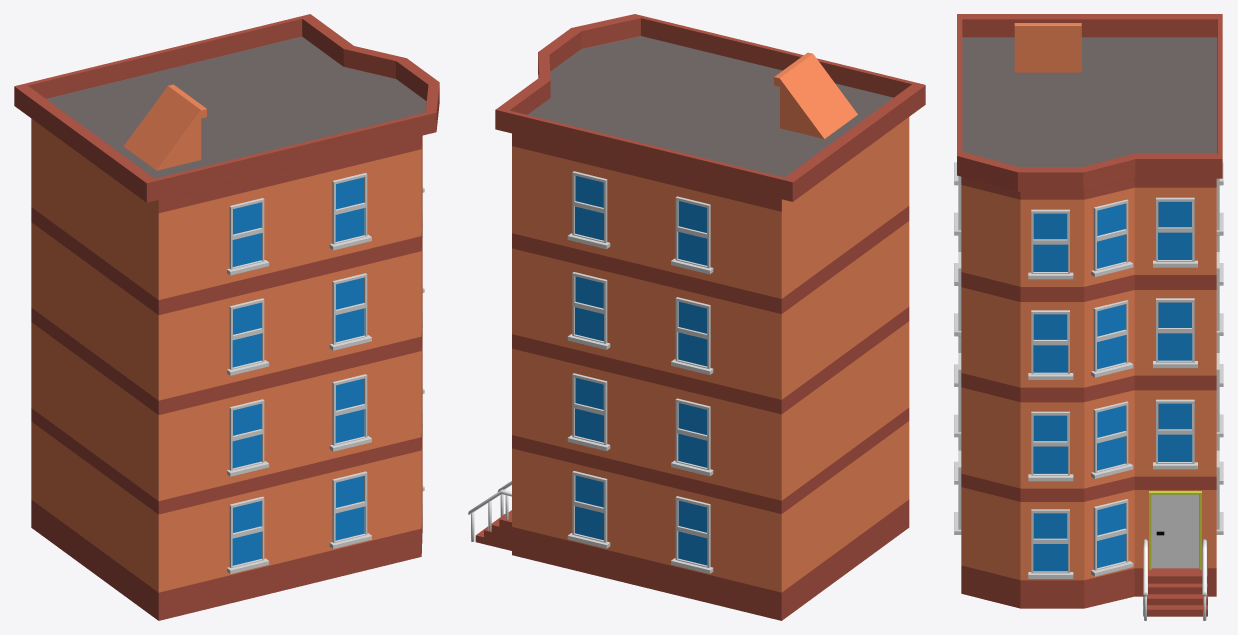
The model's file is bigone.fbx.
The picture shows the model from 3 angles, left to right: view 1: azimuth 30°, elevation 25°; view 2: azimuth 150°, elevation 25°; view 3: azimuth 270°, elevation 25°; orthographic projection.
Visible parts, largest first — view 1: Cube; view 2: Cube; view 3: Cube.
Boxes of the visible parts, bbox=[...] form: Cube: bbox=[14, 14, 439, 620]; Cube: bbox=[468, 14, 925, 620]; Cube: bbox=[954, 14, 1223, 620].
Bounding box in the file's own units: 747 × 1026 × 524.
